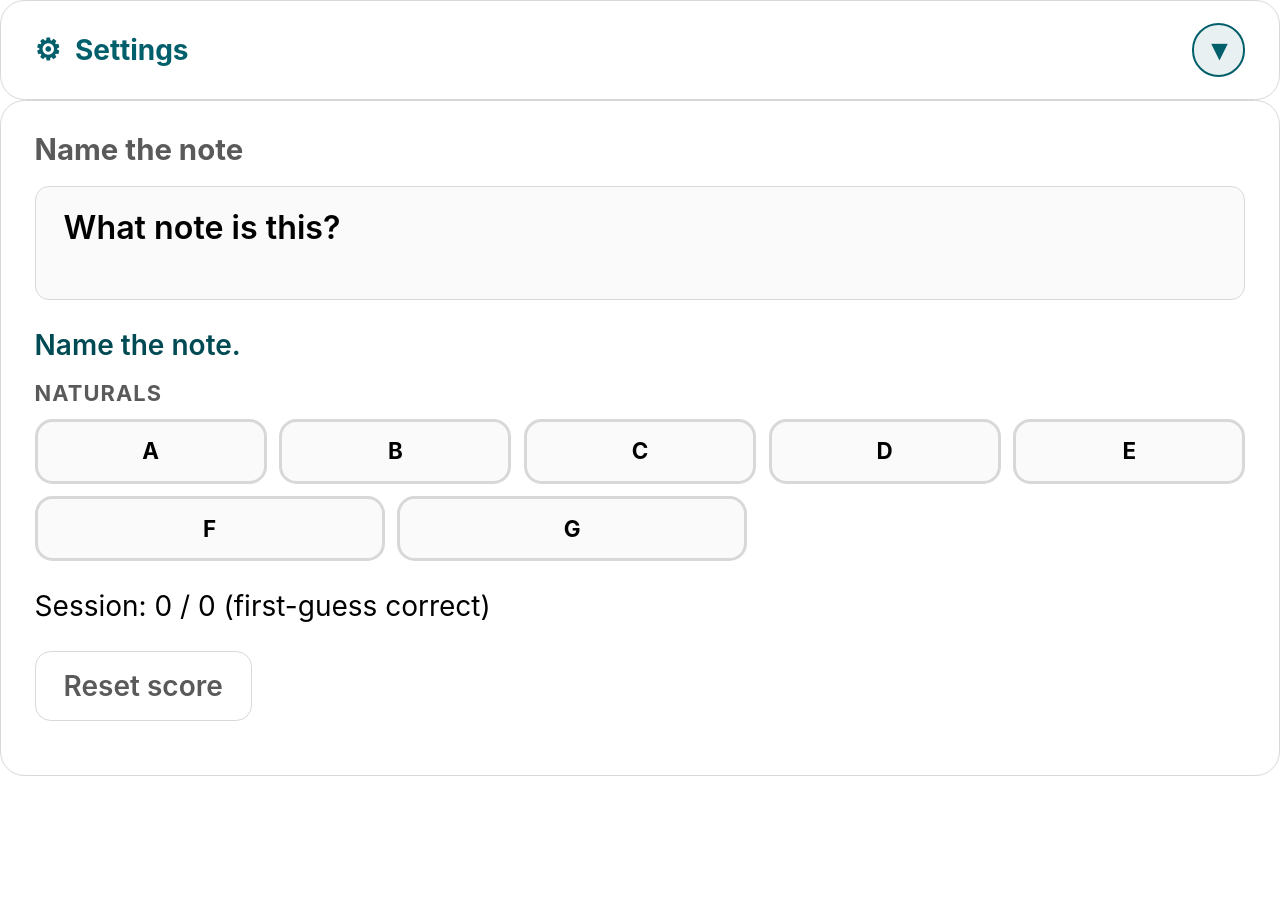
Test case: NoteReadingTopic — first-guess scoring (docs/15-theory-topics/01 §6) › counts a wrong-then-right answer as total+1, correct+0 (only first guess scores)
Click the button "B": (395, 451) [279,419,511,484]
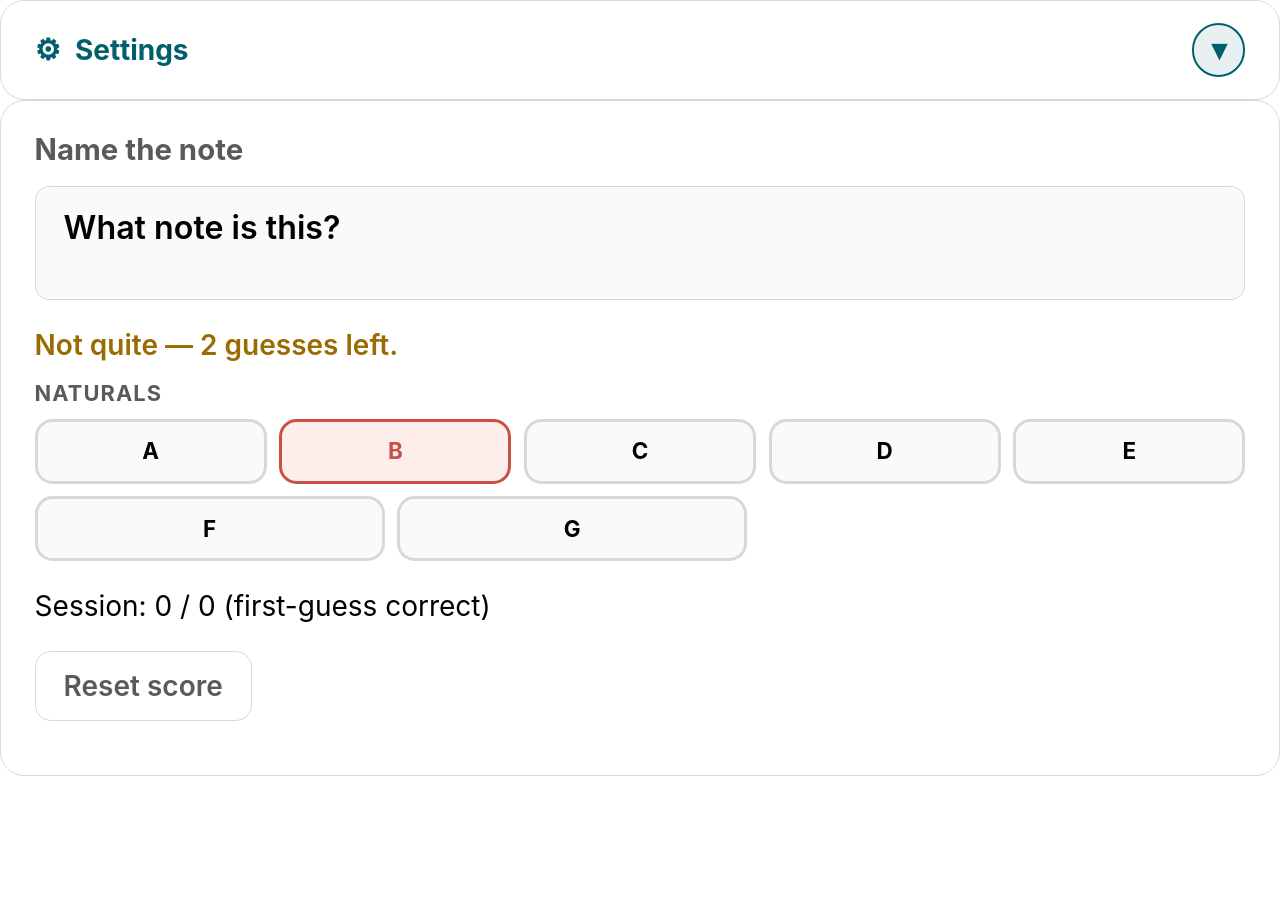
Click the button "A": (151, 451) [35,419,267,484]
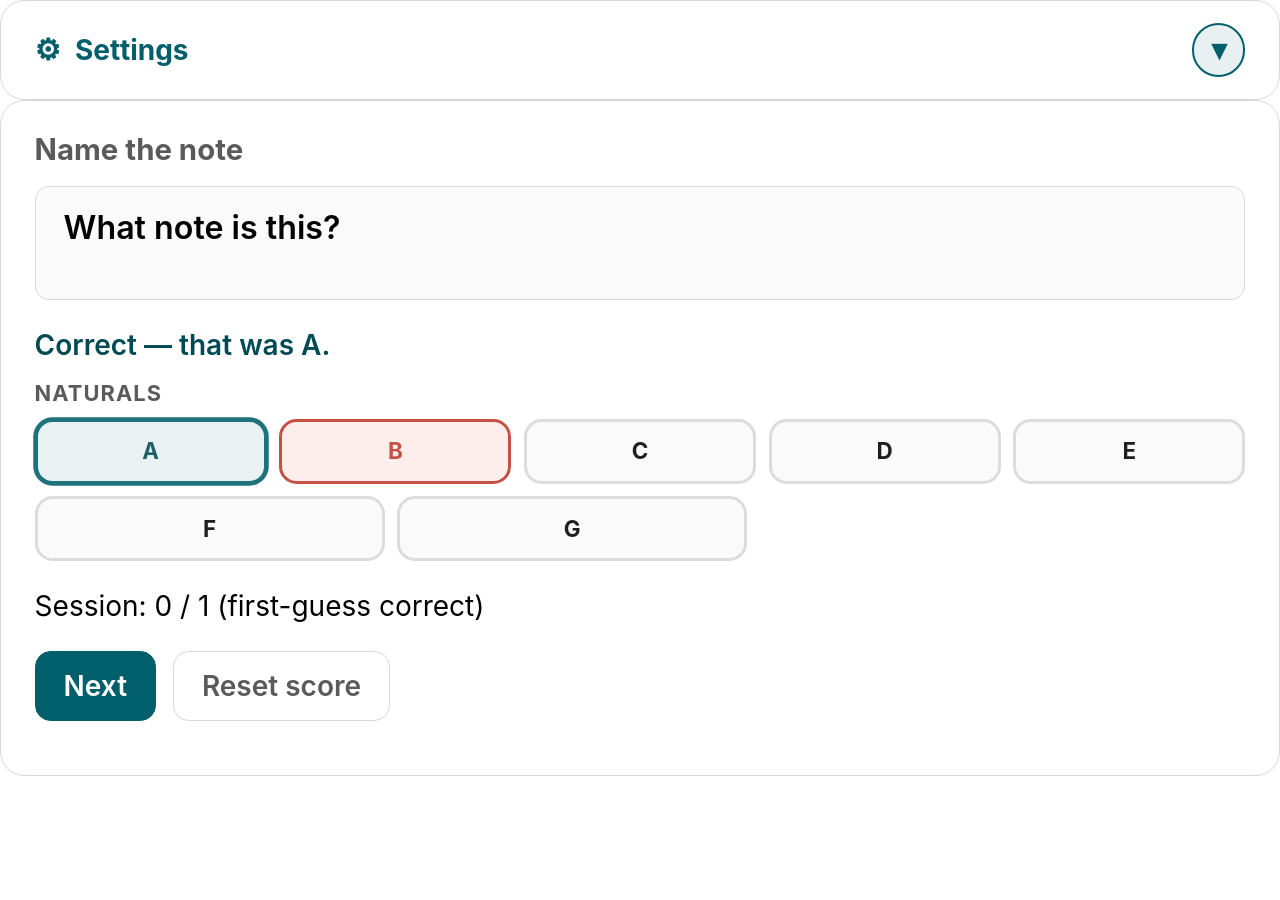
Expected: the text "Session: 0 / 1 (first-guess correct)" is shown, [35,589,484,623]
